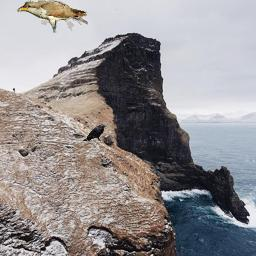Crow: (82, 124, 107, 143)
Cuckoo: (17, 0, 88, 33)
